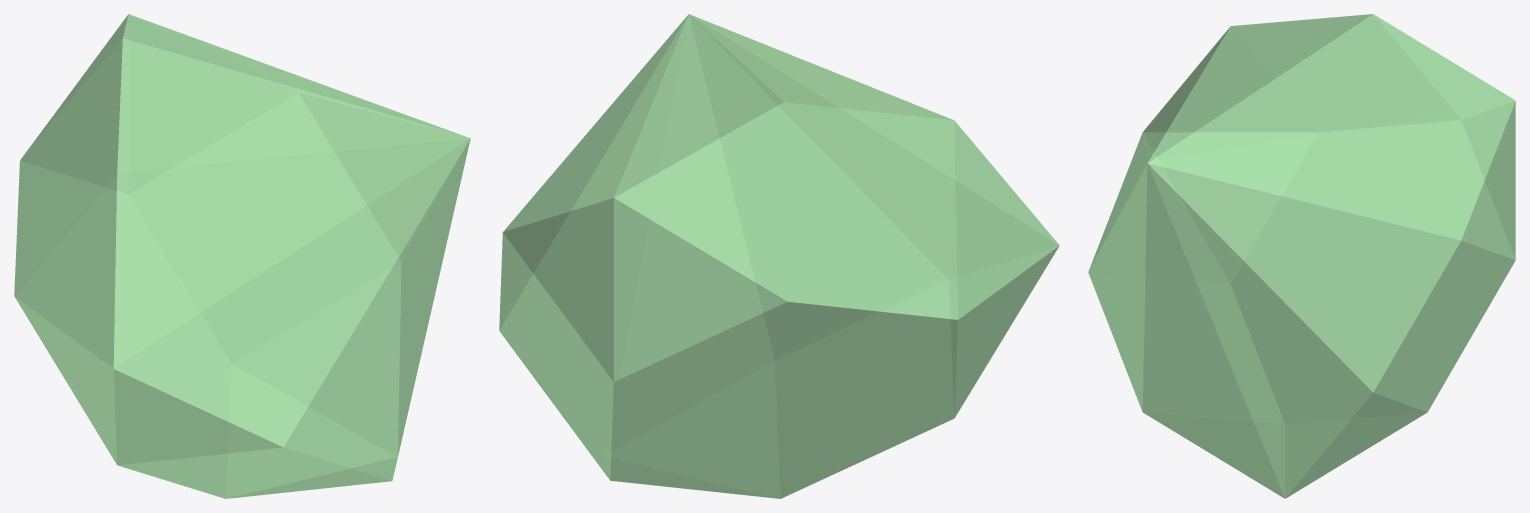
File: TriangularHebesphenorotunda2.obj
3 views of the same model, side by side, from view 1: azimuth 30°, elevation 25°; view 2: azimuth 150°, elevation 25°; view 3: azimuth 270°, elevation 25° (orthographic). The views are drawn at different scales.
Size of the model in its own units: 2.43 by 2.43 by 2.43.
